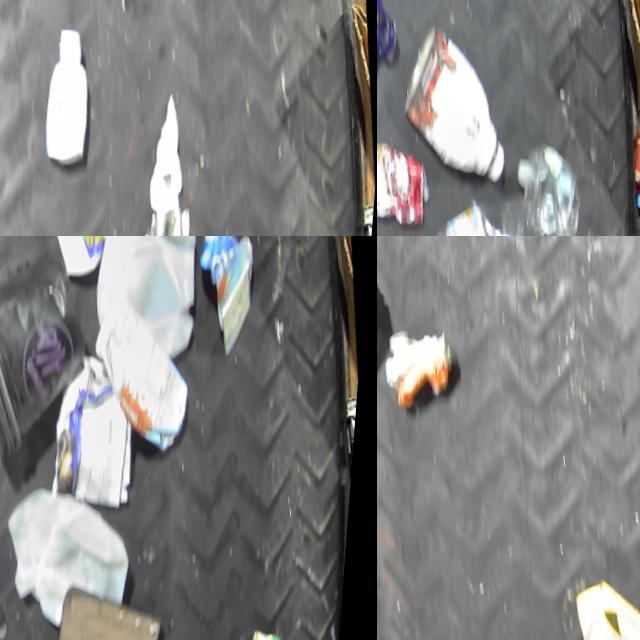can: (377, 134, 441, 228), (240, 613, 306, 640)
milk_jug: (3, 470, 149, 632), (79, 236, 218, 365)
plastic_bottle: (396, 179, 565, 236), (514, 125, 596, 236)
